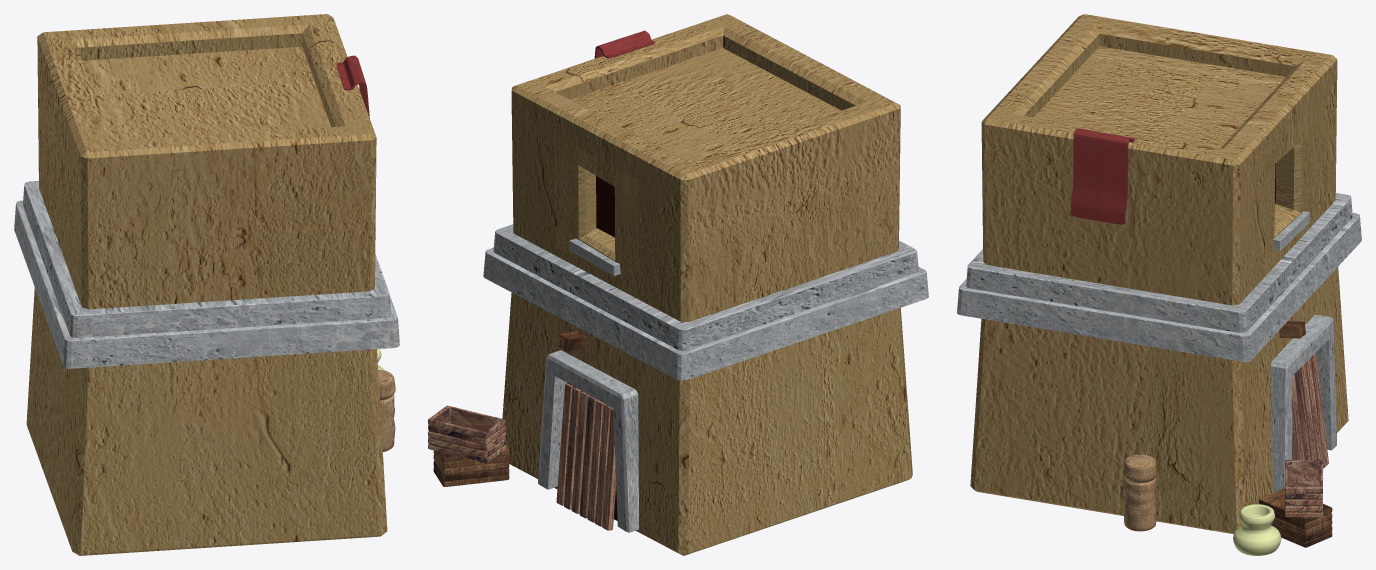
Rendered from Casinha4.fbx.
3 renders of one model, left to right at view 1: azimuth 30°, elevation 25°; view 2: azimuth 150°, elevation 25°; view 3: azimuth 270°, elevation 25°, orthographic. The views are drawn at different scales.
Parts seen in each view (by area): view 1: Cube.015, Cube.020, Cylinder.027, Plane.008; view 2: Cube.015, Cube.020, Cube.023, Cube.012, Cube.008, Cube.006, Plane.008, Cube.055; view 3: Cube.015, Cube.020, Cube.023, Plane.008, Cube.012, Cylinder.027, Cube.008, Cube.006, Cylinder.021, Cube.055.
Part boxes in pixels (box(x1,y1,x2,y2)): Cube.015: box(26, 14, 387, 555); Cube.020: box(14, 181, 399, 368); Cylinder.027: box(378, 370, 395, 451); Plane.008: box(336, 55, 369, 118); Cube.015: box(502, 14, 912, 555); Cube.020: box(483, 224, 928, 380); Cube.023: box(538, 350, 638, 532); Cube.012: box(556, 383, 616, 530); Cube.008: box(428, 405, 505, 462); Cube.006: box(433, 444, 509, 486); Plane.008: box(594, 30, 654, 58); Cube.055: box(569, 238, 620, 275); Cube.015: box(970, 14, 1348, 534); Cube.020: box(957, 193, 1361, 361); Cube.023: box(1270, 314, 1336, 492); Plane.008: box(1070, 128, 1135, 224); Cube.012: box(1292, 352, 1328, 468); Cylinder.027: box(1123, 454, 1156, 531); Cube.008: box(1285, 460, 1322, 517); Cube.006: box(1258, 488, 1332, 547); Cylinder.021: box(1233, 504, 1281, 555); Cube.055: box(1273, 211, 1309, 250).
Size of the model in its own units: 755 by 718 by 681.
Materials: 8 (6 with a texture image).
